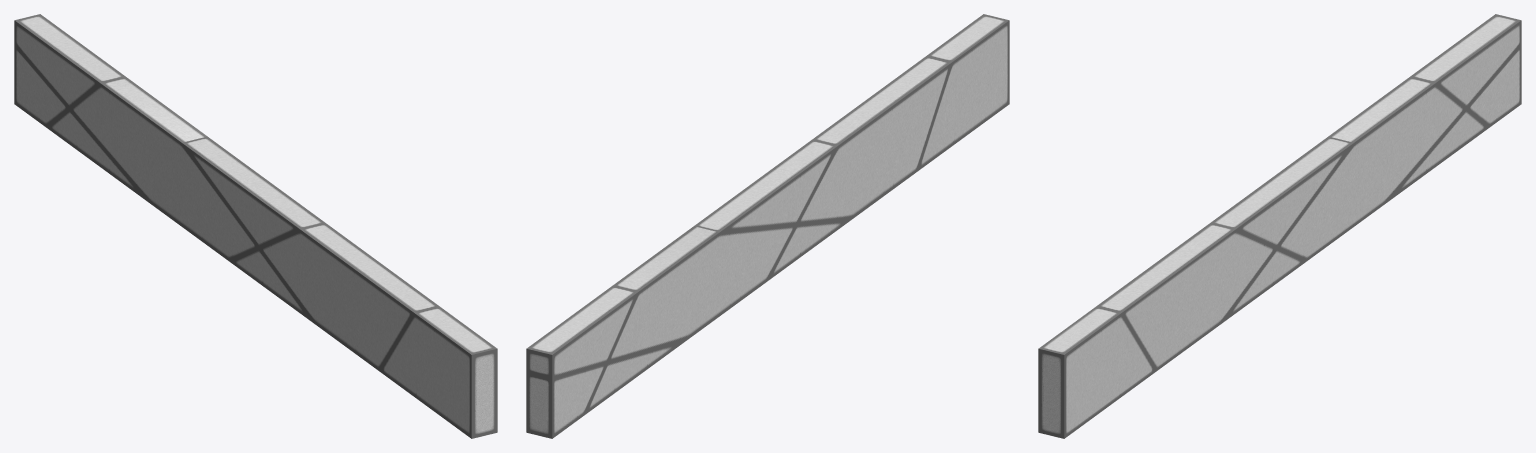
File: obstacle.fbx
The picture shows the model from 3 angles, left to right: view 1: azimuth 30°, elevation 25°; view 2: azimuth 150°, elevation 25°; view 3: azimuth 330°, elevation 25°; orthographic projection.
Parts seen in each view (by area): view 1: Object013, Object011, Object009, Object005, Object001, Box004, Object003, Object007; view 2: Object013, Object011, Object009, Object005, Object001, Box004, Object003, Object007; view 3: Object013, Object011, Object009, Object005, Object001, Box004, Object003, Object007.
Boxes of the visible parts, left/top/right/bottom form: Object013: left=69, top=77, right=258, bottom=260; Object011: left=259, top=223, right=439, bottom=370; Object009: left=379, top=306, right=497, bottom=438; Object005: left=182, top=136, right=325, bottom=247; Object001: left=14, top=14, right=125, bottom=108; Box004: left=14, top=44, right=69, bottom=127; Object003: left=46, top=109, right=150, bottom=203; Object007: left=229, top=248, right=314, bottom=323; Object013: left=607, top=224, right=796, bottom=362; Object011: left=797, top=56, right=951, bottom=224; Object009: left=917, top=14, right=1009, bottom=171; Object005: left=694, top=139, right=837, bottom=232; Object001: left=526, top=285, right=638, bottom=378; Box004: left=526, top=363, right=606, bottom=438; Object003: left=584, top=339, right=688, bottom=415; Object007: left=767, top=219, right=852, bottom=281; Object013: left=1277, top=77, right=1466, bottom=260; Object011: left=1096, top=223, right=1276, bottom=370; Object009: left=1038, top=306, right=1156, bottom=438; Object005: left=1210, top=136, right=1353, bottom=247; Object001: left=1410, top=14, right=1521, bottom=108; Box004: left=1466, top=44, right=1521, bottom=127; Object003: left=1385, top=109, right=1489, bottom=203; Object007: left=1221, top=248, right=1306, bottom=323.
Bounding box in the file's own units: 28.03 × 87.18 × 860.
